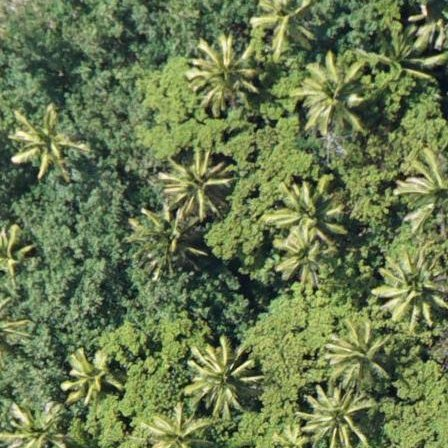palm_tree: (4, 103, 76, 179), (187, 343, 258, 416), (297, 57, 364, 129), (378, 249, 448, 316), (301, 385, 372, 448), (164, 151, 227, 214), (191, 41, 254, 104), (324, 323, 386, 382), (271, 180, 336, 233), (63, 349, 123, 404), (401, 147, 448, 217), (1, 402, 65, 448), (259, 1, 318, 48), (279, 232, 331, 281), (145, 411, 209, 448)
